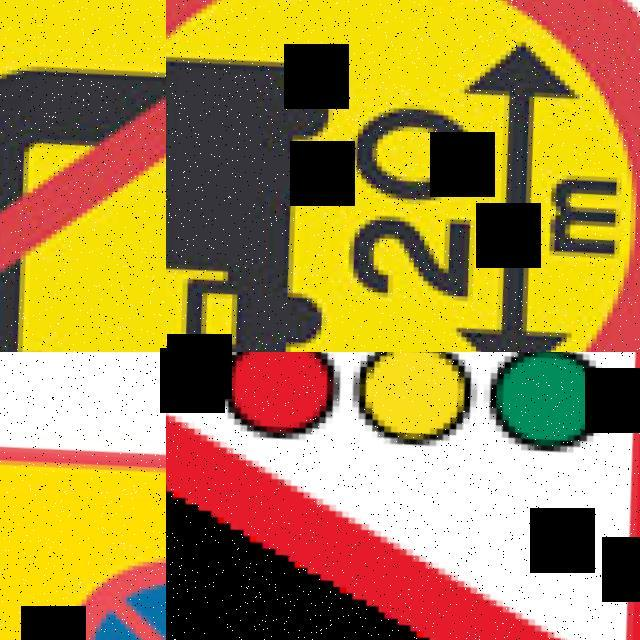177: (0, 416, 166, 640)
No vehicles exceeding length shown: (166, 0, 640, 352)
Traffic signals: (166, 352, 640, 640)
no turning left: (0, 0, 166, 352)
